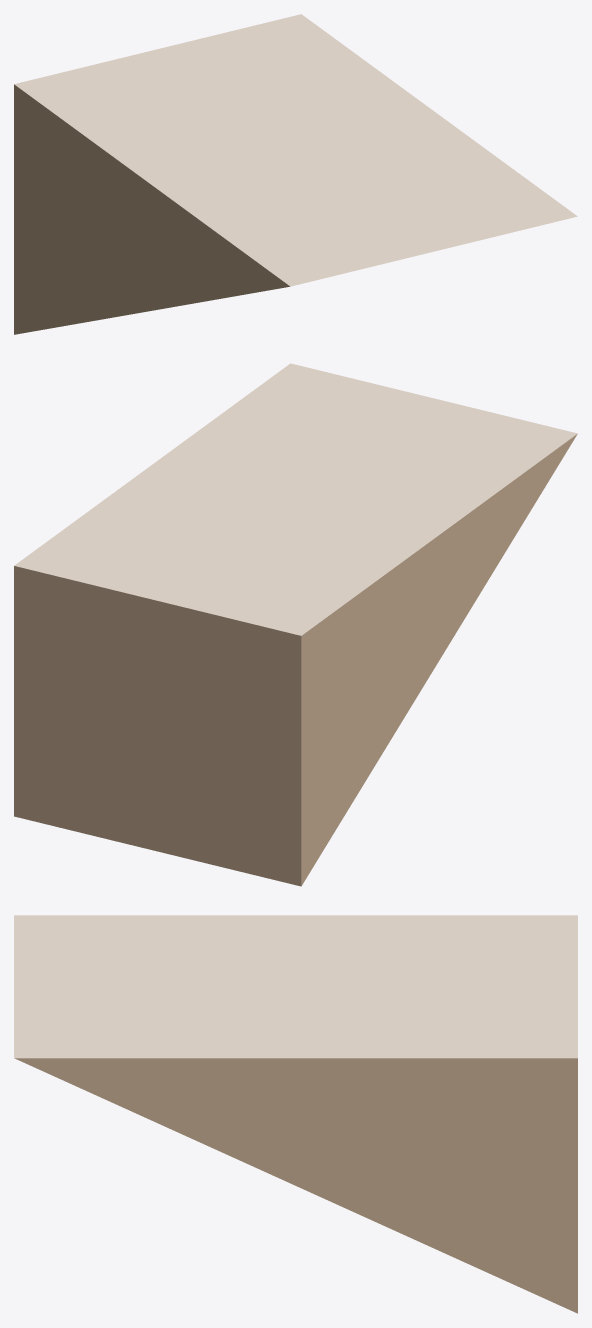
File: Stairs_Under_Ramp_Straight.fbx
3 renders of one model, top to bottom at view 1: azimuth 30°, elevation 25°; view 2: azimuth 150°, elevation 25°; view 3: azimuth 270°, elevation 25°, orthographic.
Parts seen in each view (by area): view 1: Sandstone_Floor, Sandstone_Trim.object1; view 2: Sandstone_Trim.object1, Sandstone_Floor; view 3: Sandstone_Floor, Sandstone_Trim.object1.
Boxes of the visible parts, x1=… form: Sandstone_Floor: x1=14, y1=14, x2=577, y2=286; Sandstone_Trim.object1: x1=14, y1=84, x2=289, y2=334; Sandstone_Trim.object1: x1=14, y1=434, x2=577, y2=886; Sandstone_Floor: x1=14, y1=363, x2=577, y2=635; Sandstone_Floor: x1=14, y1=915, x2=577, y2=1058; Sandstone_Trim.object1: x1=15, y1=1058, x2=577, y2=1313.
Bounding box in the file's own units: 1.2 × 1 × 2.
